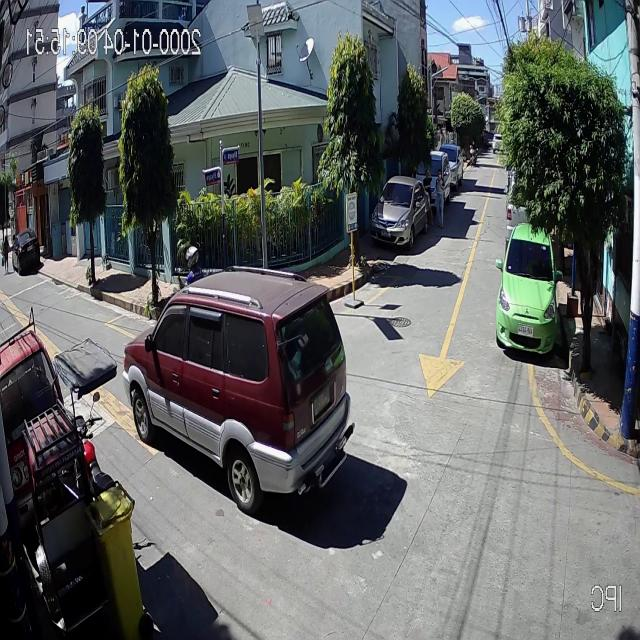standing: (423, 167, 434, 227), (435, 170, 444, 229)
